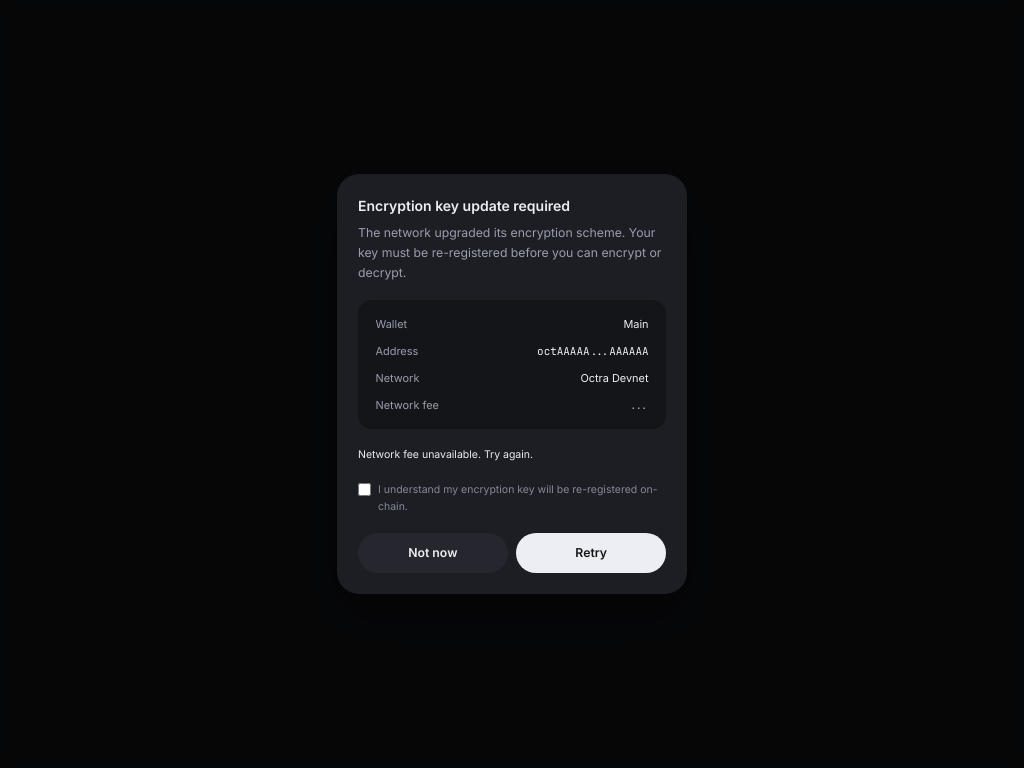
Test: encryption key update review › blocks on a failed fee read until Retry reads one
The width and height of the screenshot is (1024, 768).
Expected: the button "Switch Encryption Key" is not shown
Click the button "Retry".
click(591, 553)  # box [516, 533, 666, 573]
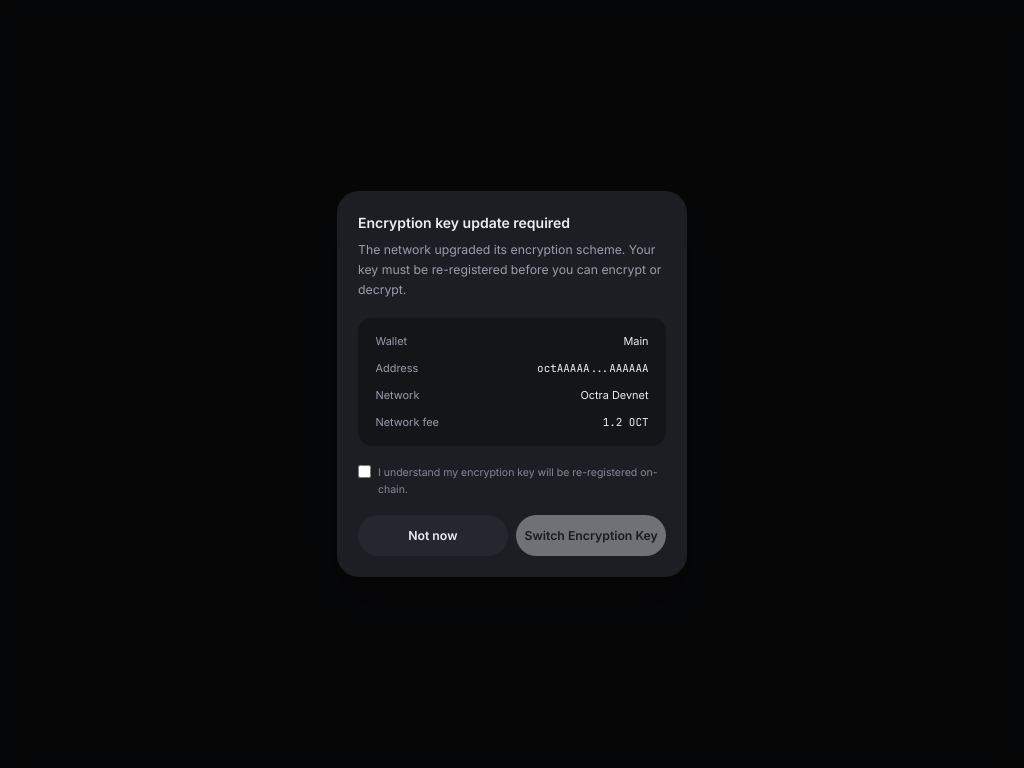
Expected: the text "1.2 OCT" is shown, [603, 414, 648, 430]
Expected: the message "Network fee unavailable. Try again." is gone
